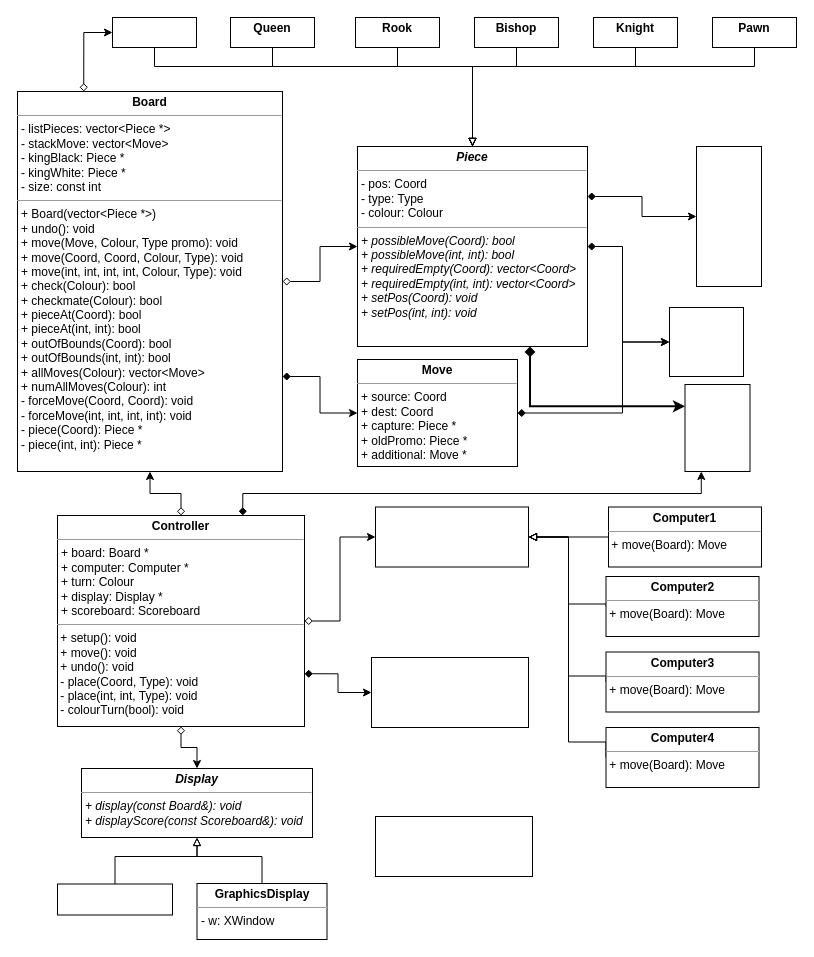
Image size: 814x957. Some labels were removed from this diagram. The box of each missing label's shape, as (x1, y1, x2, y2) in pixels:
<<enum>> Colour White Black: (684, 384, 750, 472)
<<enum>> Type King Queen Rook Bishop Knight Pawn: (696, 146, 762, 286)
Computer + move(Board): Move: (374, 506, 528, 567)
Coord + row: int + col: int: (668, 306, 744, 376)
InvalidMove - message: String: (374, 816, 532, 876)
King: (112, 16, 196, 48)
Scoreboard - whiteScore: int - blackScore: int: (370, 656, 528, 728)
TextDisplay: (56, 883, 172, 915)
